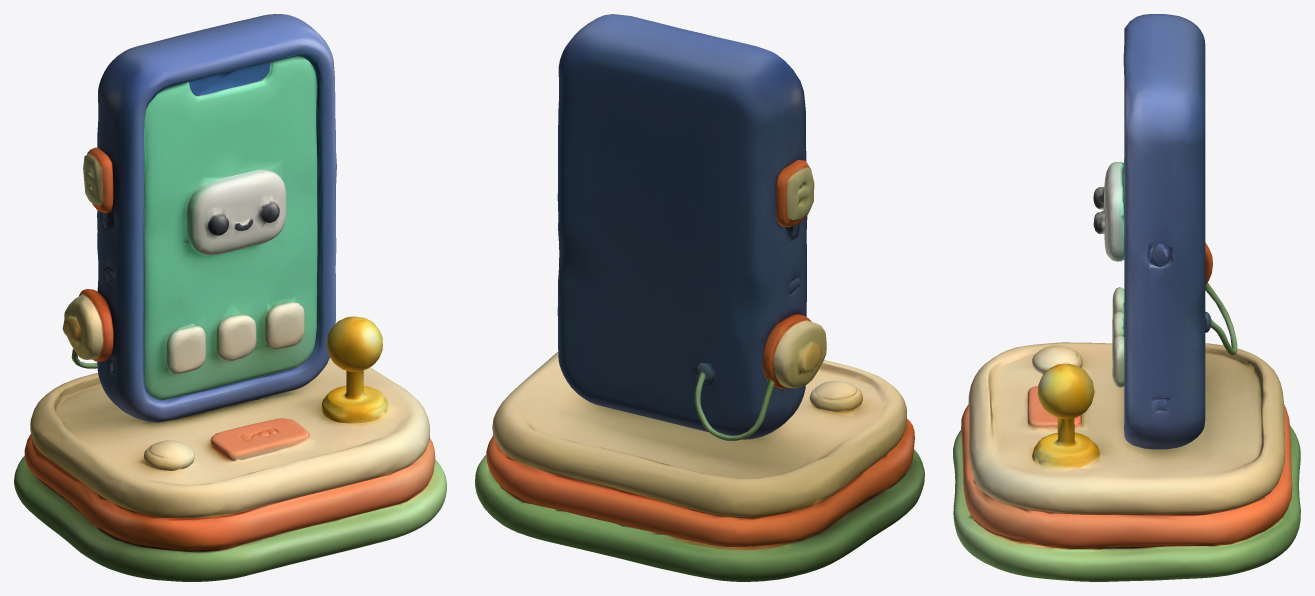
The model's file is phone_steward-detail.glb.
The picture shows the model from 3 angles, left to right: view 1: azimuth 30°, elevation 25°; view 2: azimuth 150°, elevation 25°; view 3: azimuth 270°, elevation 25°; orthographic projection. The views are drawn at different scales.
Parts seen in each view (by area): view 1: tripo_node_2323629d-ca7e-45b8-8f0b-96c4fac9edb1; view 2: tripo_node_2323629d-ca7e-45b8-8f0b-96c4fac9edb1; view 3: tripo_node_2323629d-ca7e-45b8-8f0b-96c4fac9edb1.
Part boxes in pixels (<box>): tripo_node_2323629d-ca7e-45b8-8f0b-96c4fac9edb1: <box>14,14,446,581</box>; tripo_node_2323629d-ca7e-45b8-8f0b-96c4fac9edb1: <box>475,14,924,581</box>; tripo_node_2323629d-ca7e-45b8-8f0b-96c4fac9edb1: <box>953,14,1300,581</box>.
Bounding box in the file's own units: 0.7849 × 0.979 × 0.6807.
1 material, 1 textured.
